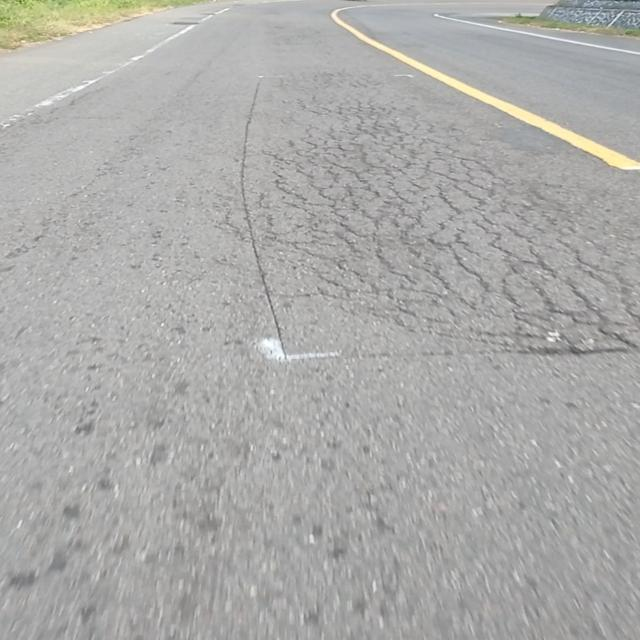Retak Buaya: (276, 72, 640, 365)
